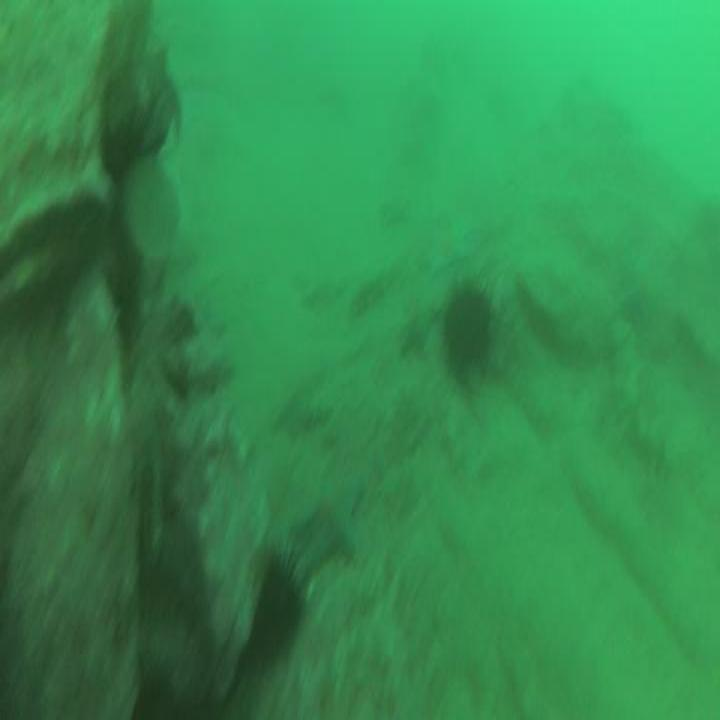echinus: (251, 562, 299, 654), (445, 286, 492, 372)
holothurian: (608, 324, 678, 480), (347, 258, 399, 309)
starfish: (290, 464, 369, 560), (396, 308, 430, 352)
